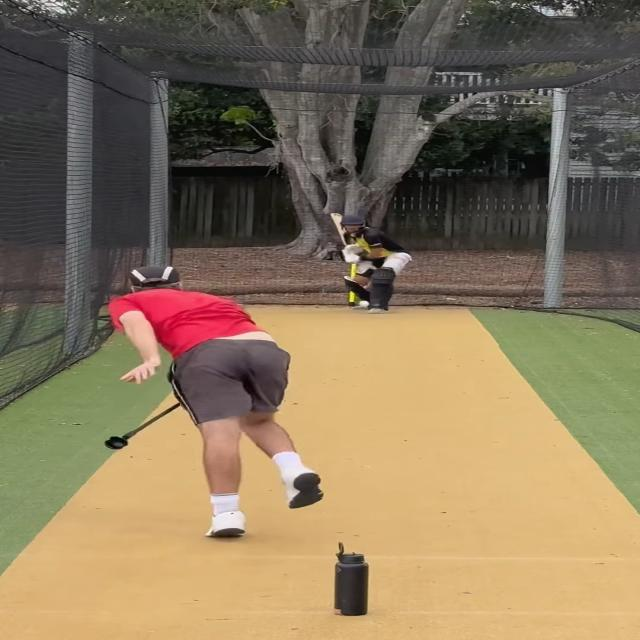Cricket ball: (356, 298, 373, 309)
